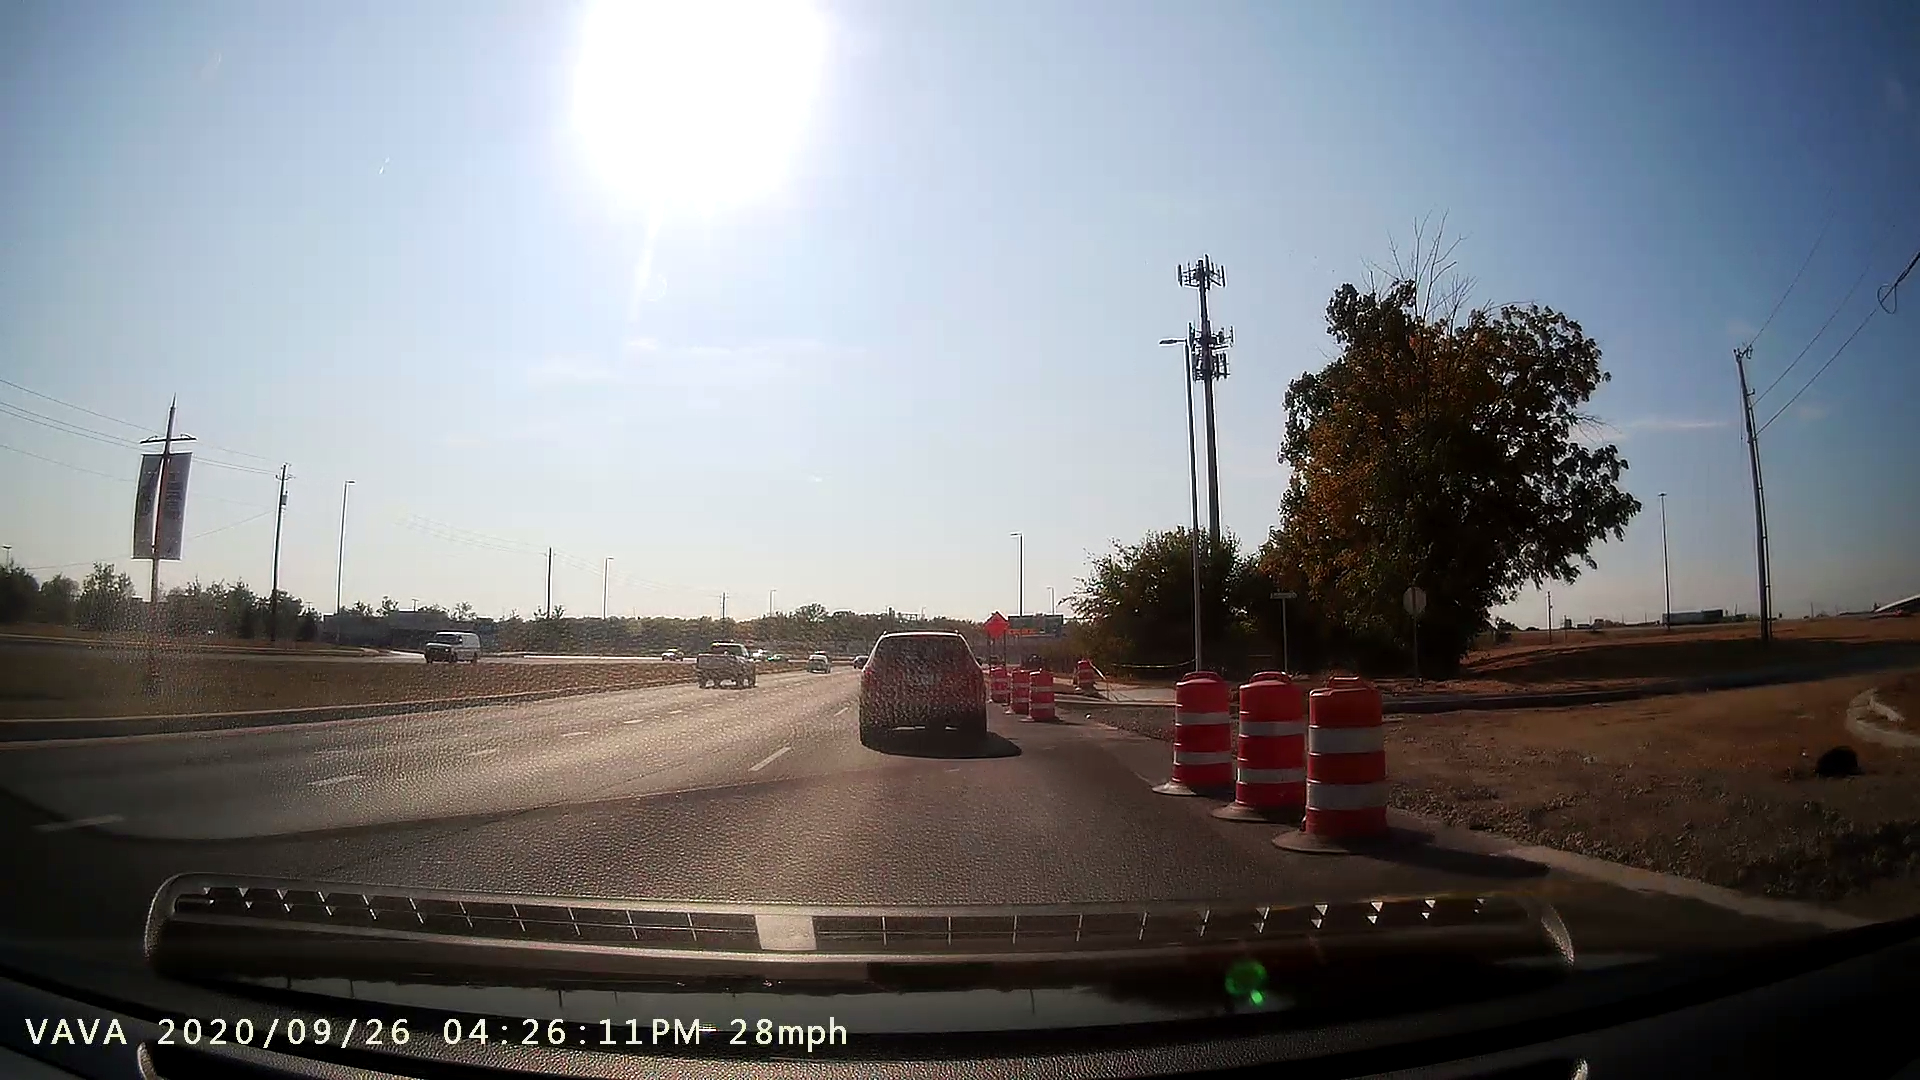const_barrel: (1276, 676, 1400, 858), (1154, 669, 1236, 800)
